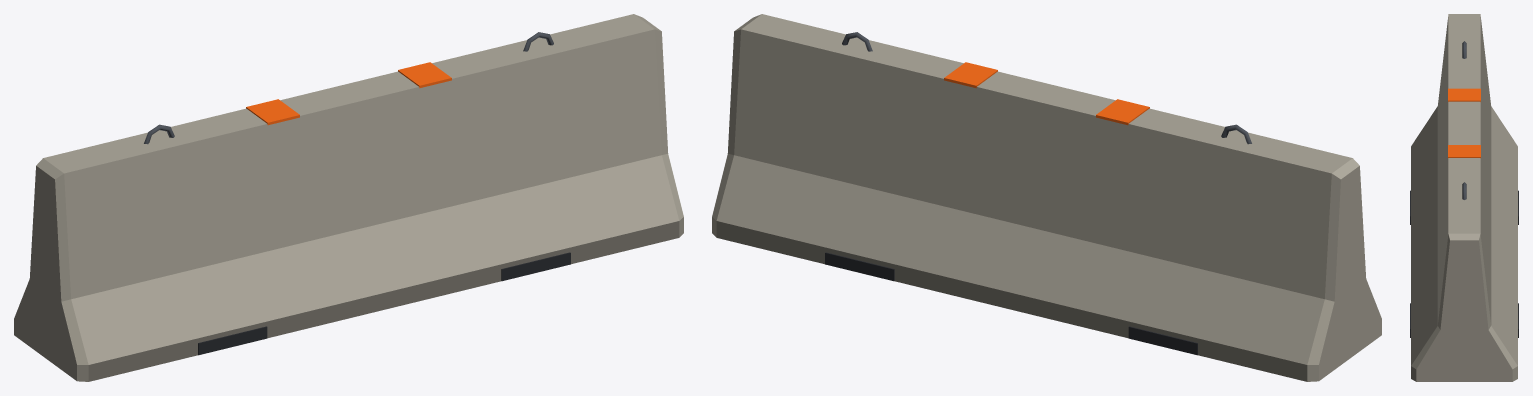
The model's file is barrier_jersey.glb.
3 renders of one model, left to right at view 1: azimuth 30°, elevation 25°; view 2: azimuth 150°, elevation 25°; view 3: azimuth 270°, elevation 25°, orthographic. The views are drawn at different scales.
Parts seen in each view (by area): view 1: barrier_jersey__mesh; view 2: barrier_jersey__mesh; view 3: barrier_jersey__mesh.
Part boxes in pixels (x1,y1,x2,y2): barrier_jersey__mesh: (14, 14, 683, 381); barrier_jersey__mesh: (712, 14, 1381, 381); barrier_jersey__mesh: (1410, 14, 1518, 381).
Bounding box in the file's own units: 3 × 0.973 × 0.612.
Materials: 1 (1 with a texture image).
